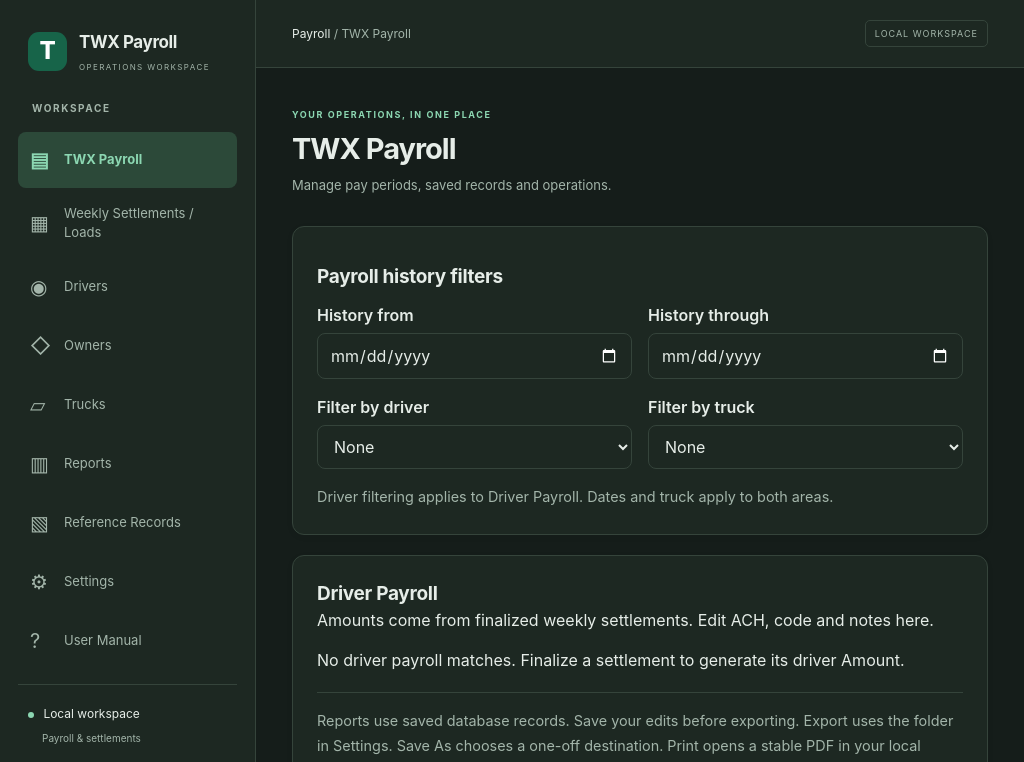
Test: desktop foundation › restores a stored preference and exposes all placeholder areas
Click the button "⚙ Settings" at (128, 582), box [18,554,237,610]
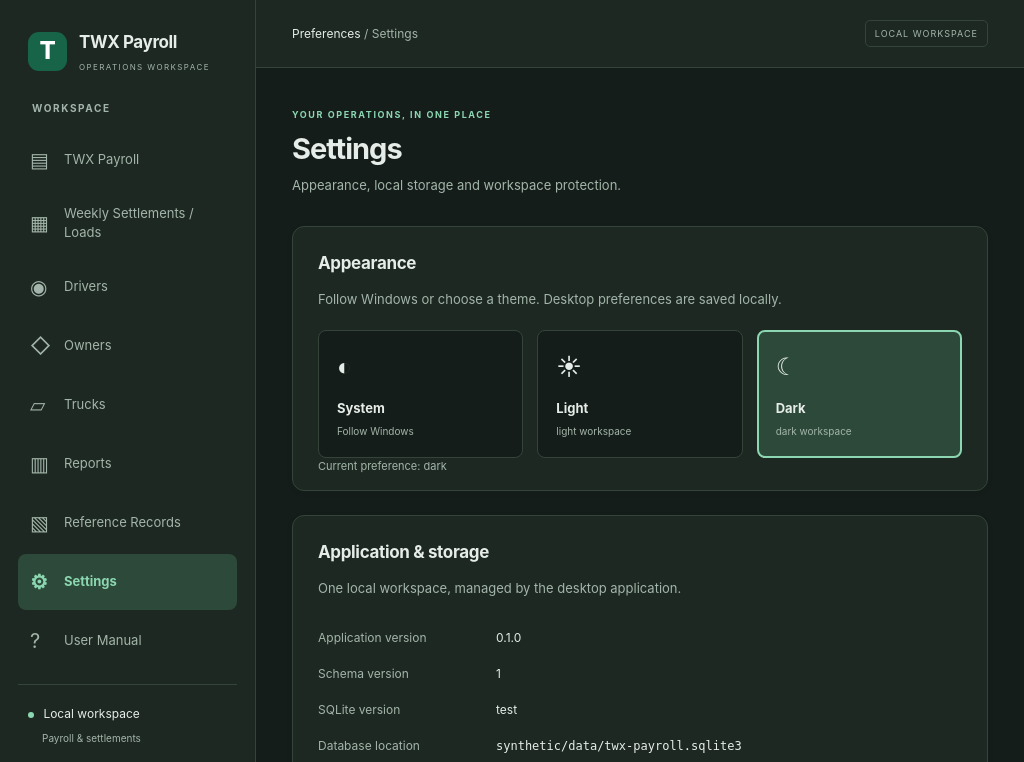
Expected: the button "▤ TWX Payroll" is shown, [18,132,237,188]
Expected: the text "synthetic/data/twx-payroll.sqlite3" is shown, [496,740,742,754]
